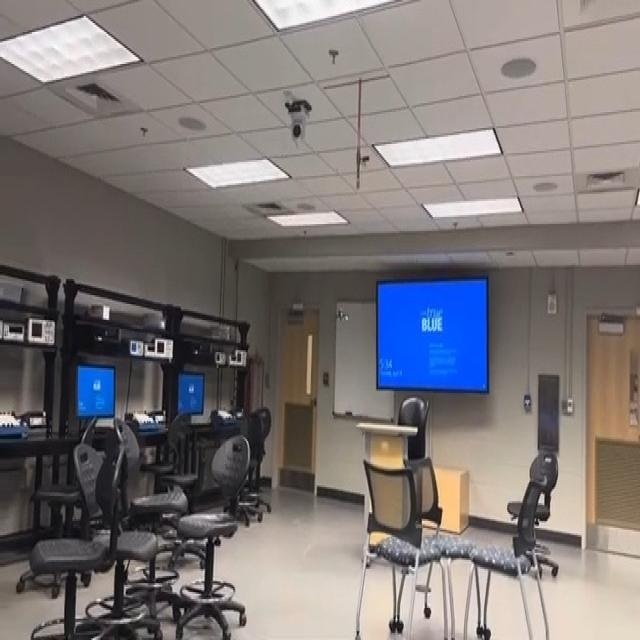drone: (326, 292, 356, 336)
